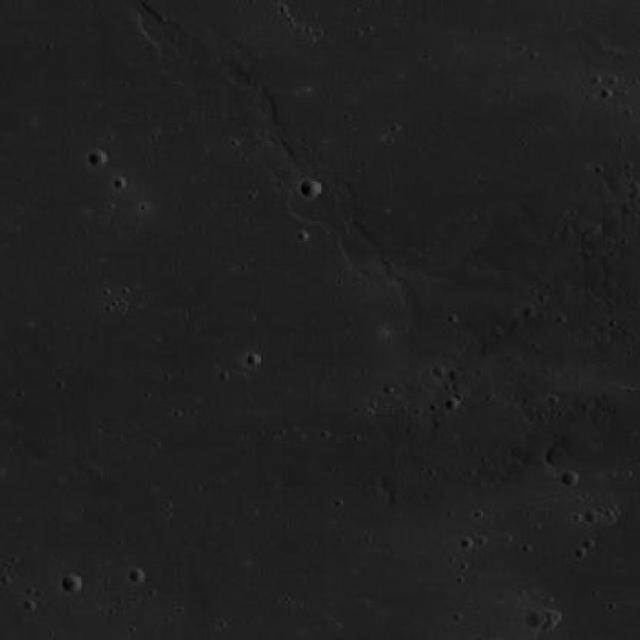crater: (525, 608, 547, 628), (536, 610, 558, 630), (62, 574, 84, 594), (548, 446, 570, 466), (302, 179, 322, 198), (90, 150, 107, 166)
